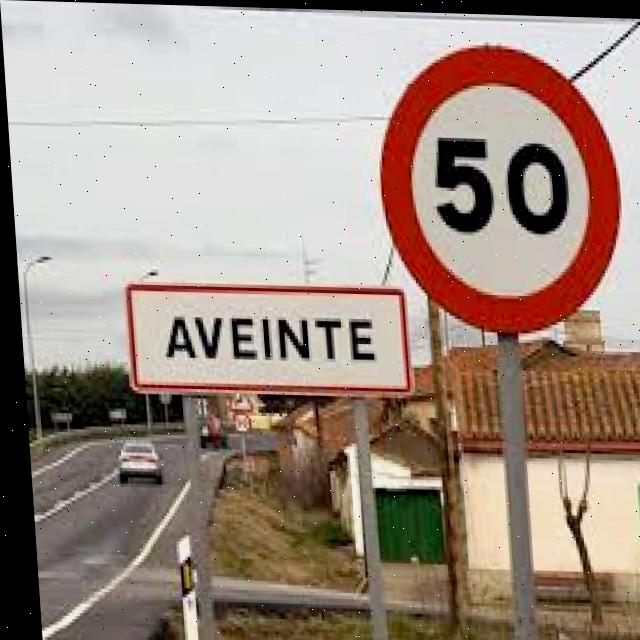Speed limit 50: (367, 35, 629, 337)
